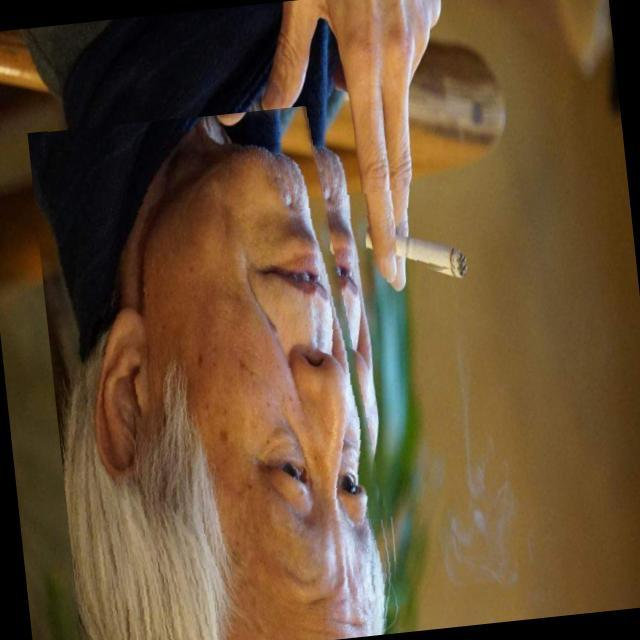cigarette: (342, 181, 489, 287)
